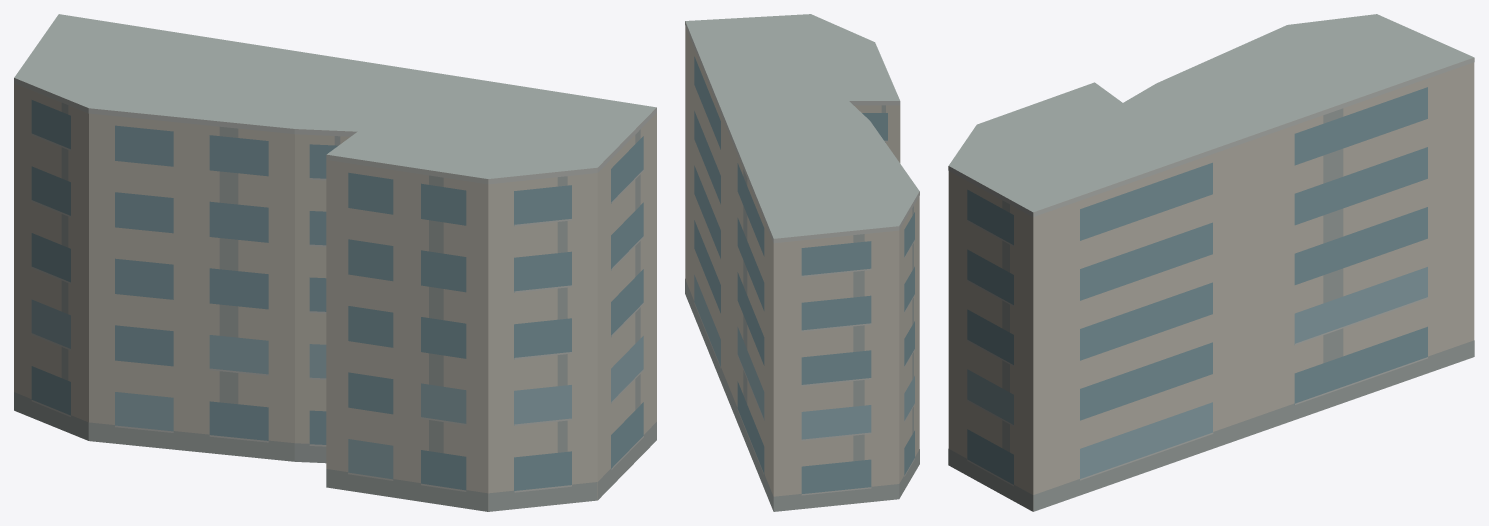
The model's file is residential-cf057058-6a8f-4426-8663-cb652d649b33.glb.
3 renders of one model, left to right at view 1: azimuth 30°, elevation 25°; view 2: azimuth 150°, elevation 25°; view 3: azimuth 270°, elevation 25°, orthographic. The views are drawn at different scales.
Visible parts, largest first — view 1: residential-cf057058-6a8f-4426-8663-cb652d649b33.tmp; view 2: residential-cf057058-6a8f-4426-8663-cb652d649b33.tmp; view 3: residential-cf057058-6a8f-4426-8663-cb652d649b33.tmp.
Boxes of the visible parts, x1,y1,x2,y2 form: residential-cf057058-6a8f-4426-8663-cb652d649b33.tmp: [14, 14, 656, 511]; residential-cf057058-6a8f-4426-8663-cb652d649b33.tmp: [685, 14, 919, 511]; residential-cf057058-6a8f-4426-8663-cb652d649b33.tmp: [948, 14, 1474, 511].
Bounding box in the file's own units: 21.67 × 15.25 × 24.28.
